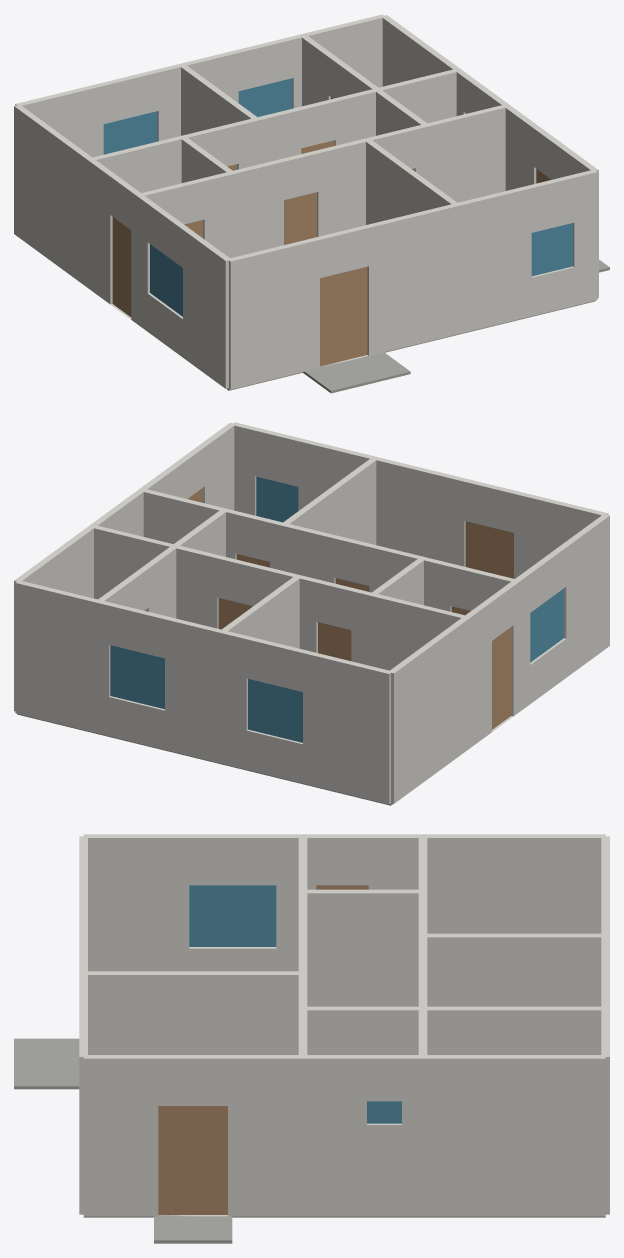
The model's file is 2BHK_01_generated.fbx.
3 renders of one model, top to bottom at view 1: azimuth 30°, elevation 25°; view 2: azimuth 150°, elevation 25°; view 3: azimuth 270°, elevation 25°, orthographic. The views are drawn at different scales.
Parts seen in each view (by area): view 1: DX_WALL_W001, DX_WALL_W003, DX_WALL_W002, DX_WALL_W008, DX_WALL_W015, DX_WALL_W022, DX_WALL_W011, DX_WALL_W017, DX_WALL_W007, DX_WALL_W023, DX_WALL_W005, DX_SOCKET_DOOR_D_BAL_01_W001 (+20 smaller); view 2: DX_WALL_W022, DX_WALL_W001, DX_WALL_W023, DX_WALL_W024, DX_WALL_W002, DX_WALL_W015, DX_WALL_W003, DX_WALL_W017, DX_WALL_W008, DX_WALL_W007, DX_WALL_W016, DX_WALL_W004 (+21 smaller); view 3: DX_WALL_W021, DX_WALL_W005, DX_WALL_W002, DX_WALL_W013, DX_WALL_W004, DX_WALL_W015, DX_WALL_W009, DX_WALL_W018, DX_WALL_W020, DX_SOCKET_DOOR_D_BAL_02_W005, DX_WALL_W007, DX_WALL_W012 (+12 smaller).
Part boxes in pixels (x1,y1,x2,y2): DX_WALL_W001: (227,203,457,389); DX_WALL_W003: (455,170,597,333); DX_WALL_W002: (137,194,229,388); DX_WALL_W008: (230,138,368,257); DX_WALL_W015: (14,104,92,287); DX_WALL_W022: (15,63,183,157); DX_WALL_W011: (424,105,506,202); DX_WALL_W017: (255,88,376,164); DX_WALL_W007: (88,159,141,323); DX_WALL_W023: (181,34,303,108); DX_WALL_W005: (504,105,598,297); DX_SOCKET_DOOR_D_BAL_01_W001: (320,267,367,366); DX_WALL_W022: (221,631,390,804); DX_WALL_W001: (373,457,608,578); DX_WALL_W023: (97,600,223,763); DX_WALL_W024: (15,580,99,733); DX_WALL_W002: (514,514,609,711); DX_WALL_W015: (388,617,469,803); DX_WALL_W003: (231,422,376,515); DX_WALL_W017: (176,546,299,628); DX_WALL_W008: (282,523,423,592); DX_WALL_W007: (464,580,519,748); DX_WALL_W016: (297,575,373,665); DX_WALL_W004: (281,458,376,544); DX_WALL_W021: (423,1055,605,1216); DX_WALL_W005: (83,1055,302,1216); DX_WALL_W002: (83,834,302,971); DX_WALL_W013: (303,1055,422,1216); DX_WALL_W004: (88,971,302,1054); DX_WALL_W015: (423,834,605,933); DX_WALL_W009: (307,889,422,1006); DX_WALL_W018: (423,933,601,1006); DX_WALL_W020: (423,1006,605,1054); DX_SOCKET_DOOR_D_BAL_02_W005: (158,1106,227,1214); DX_WALL_W007: (303,834,422,889); DX_WALL_W012: (303,1006,422,1054).
Size of the model in its own units: 1029 by 311 by 1044.
